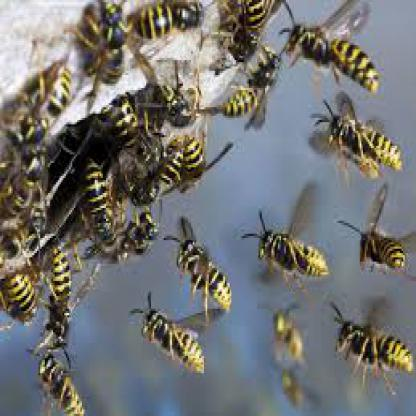other: (281, 9, 387, 105), (247, 219, 332, 294)
